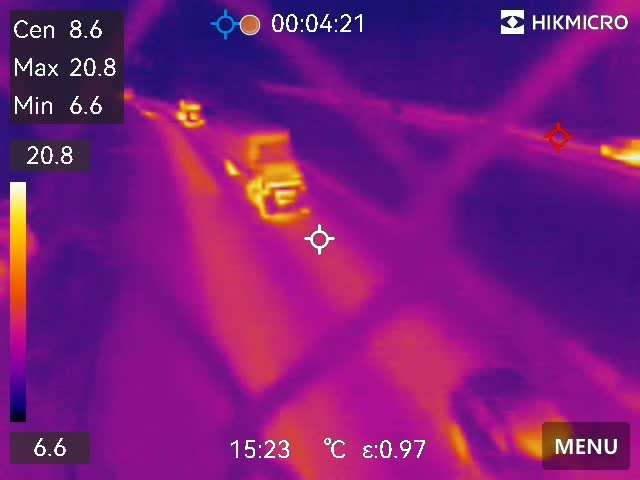heavyTruck: (216, 110, 309, 228), (170, 94, 204, 131)
